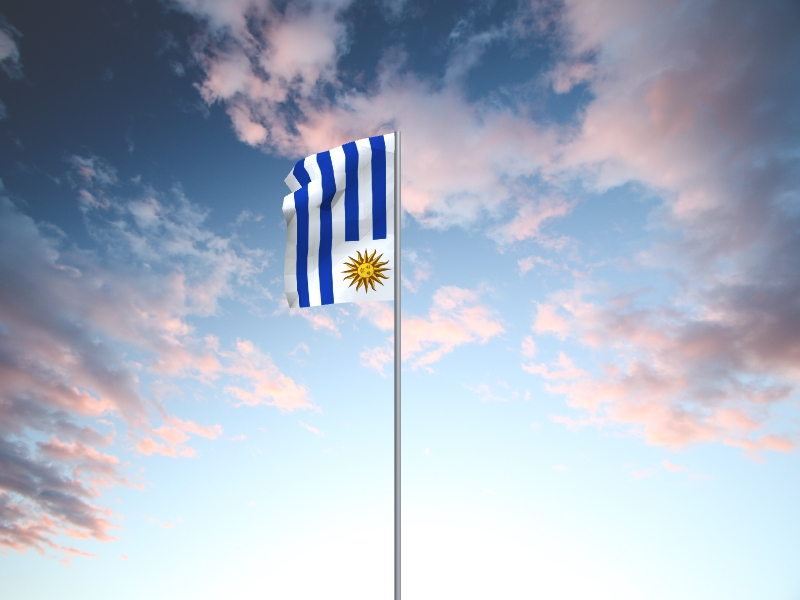uy: (283, 132, 395, 310)
